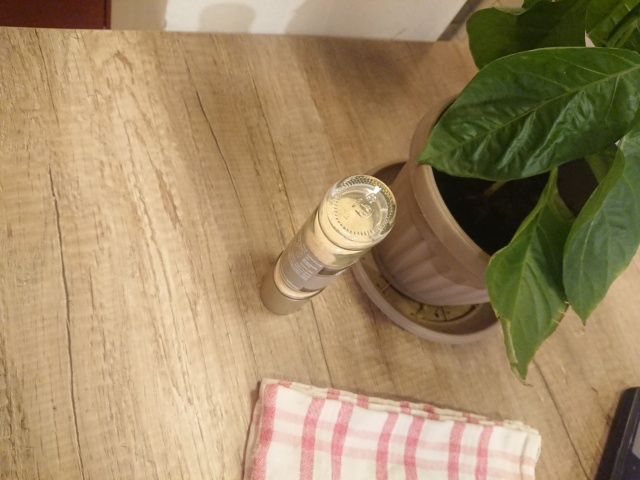Kotanyi Garlic Granules 70g: (257, 171, 399, 317)
